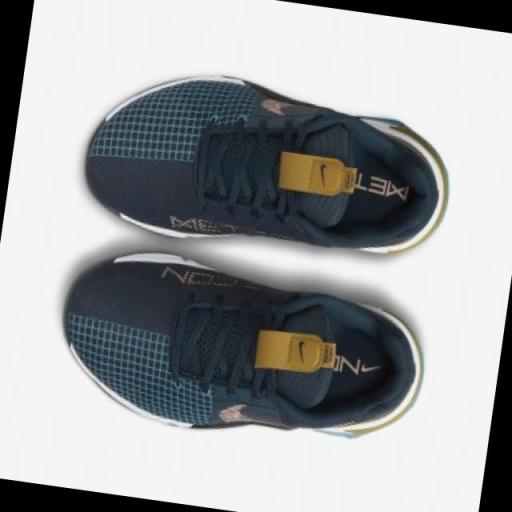Nike: (294, 336, 308, 366)
